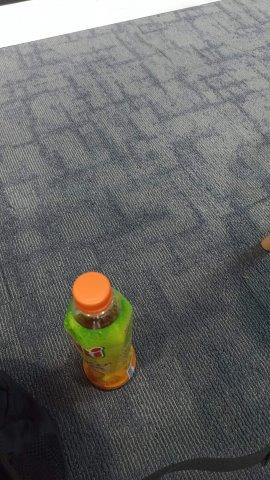botolplastik: (64, 272, 137, 390)
